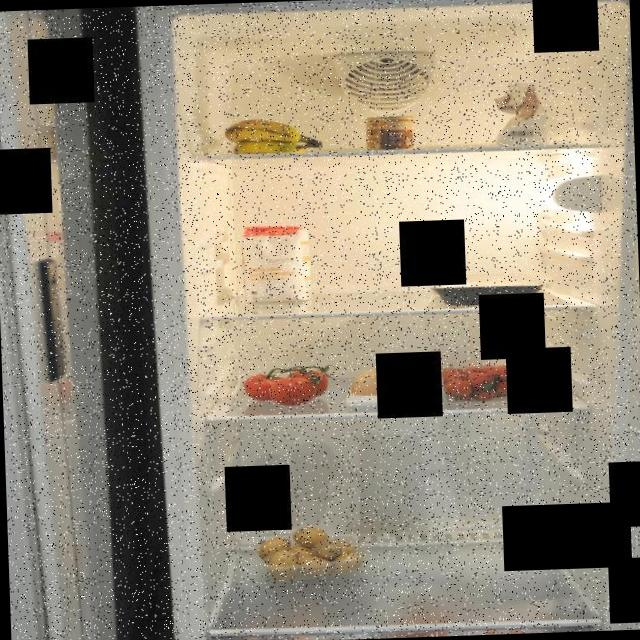Huevos: (349, 365, 416, 405)
Patata: (254, 524, 363, 580)
Plátano: (222, 112, 327, 156)
Tomate: (245, 362, 330, 408)
